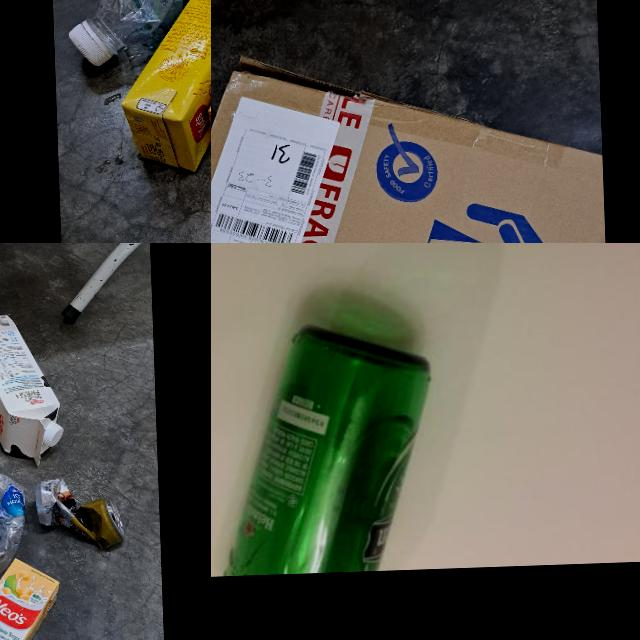aba de lata: (114, 510, 124, 528)
caixinha: (118, 0, 211, 175), (0, 311, 61, 467), (0, 556, 62, 640)
garrafa de vidro: (214, 322, 438, 575)
garrafa plástica: (65, 0, 211, 65), (0, 458, 28, 576)
lata: (34, 477, 126, 552)
papelão: (211, 37, 617, 243)
tampa plástica: (69, 15, 114, 64), (42, 422, 64, 446)
